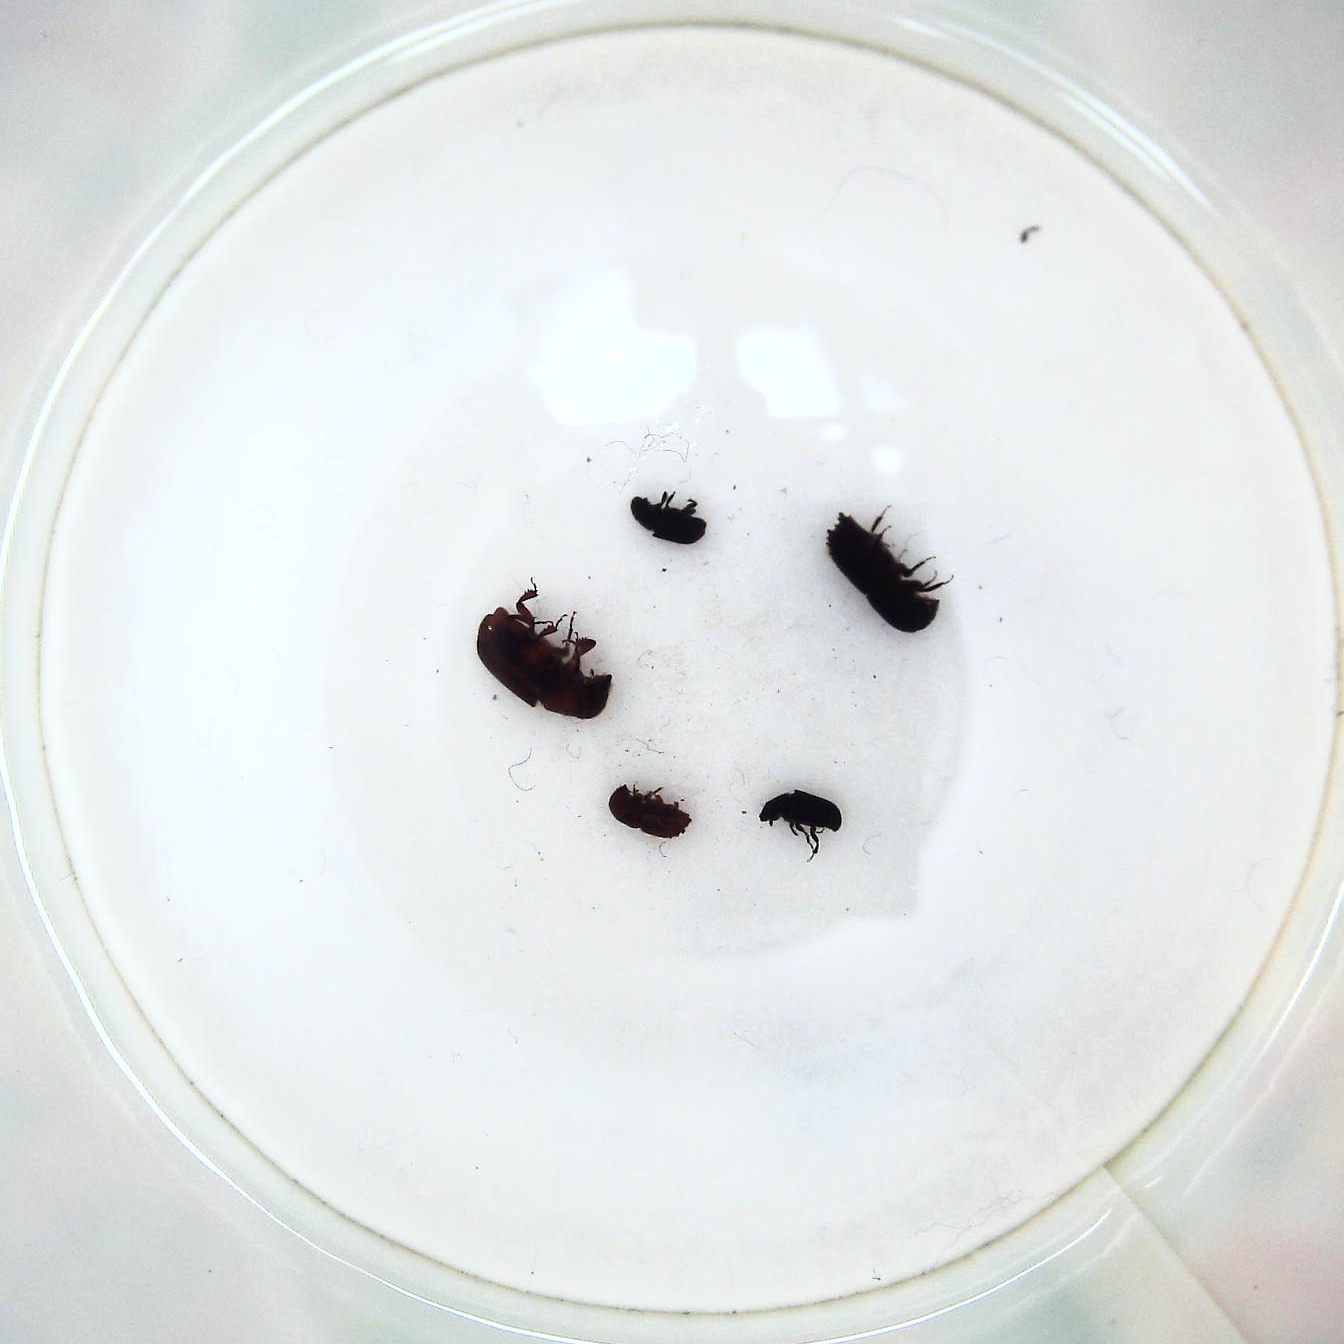Boerner: (822, 505, 948, 639)
Leconte: (473, 578, 612, 727)
armandi: (756, 786, 841, 857)
coleoptera: (624, 487, 711, 554)
linnaeus: (607, 782, 690, 842)
